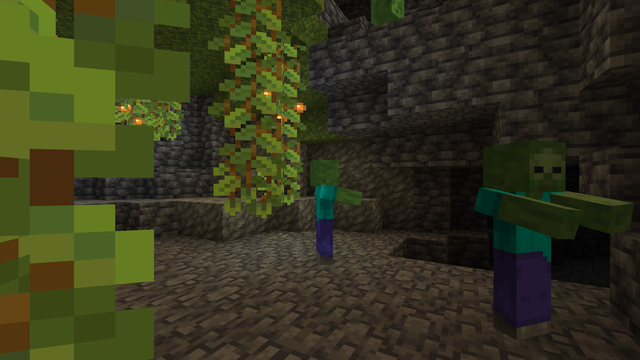slimes: (371, 0, 401, 25)
zombies: (487, 144, 568, 355), (303, 162, 343, 267)
